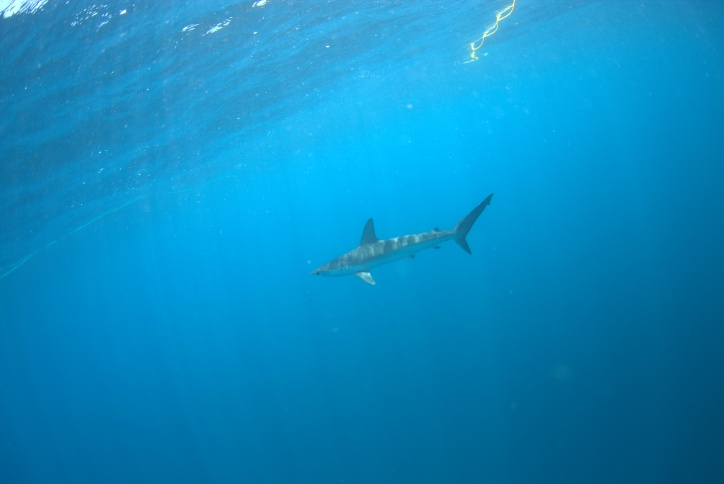Hammer: (283, 172, 506, 298)
